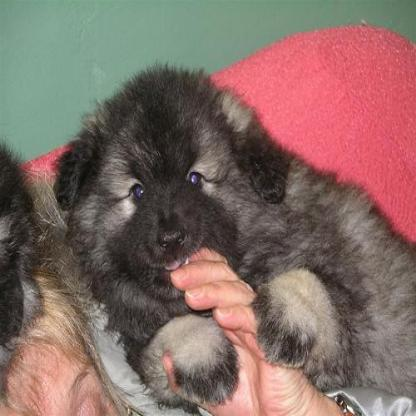keeshond: (52, 55, 414, 402)
